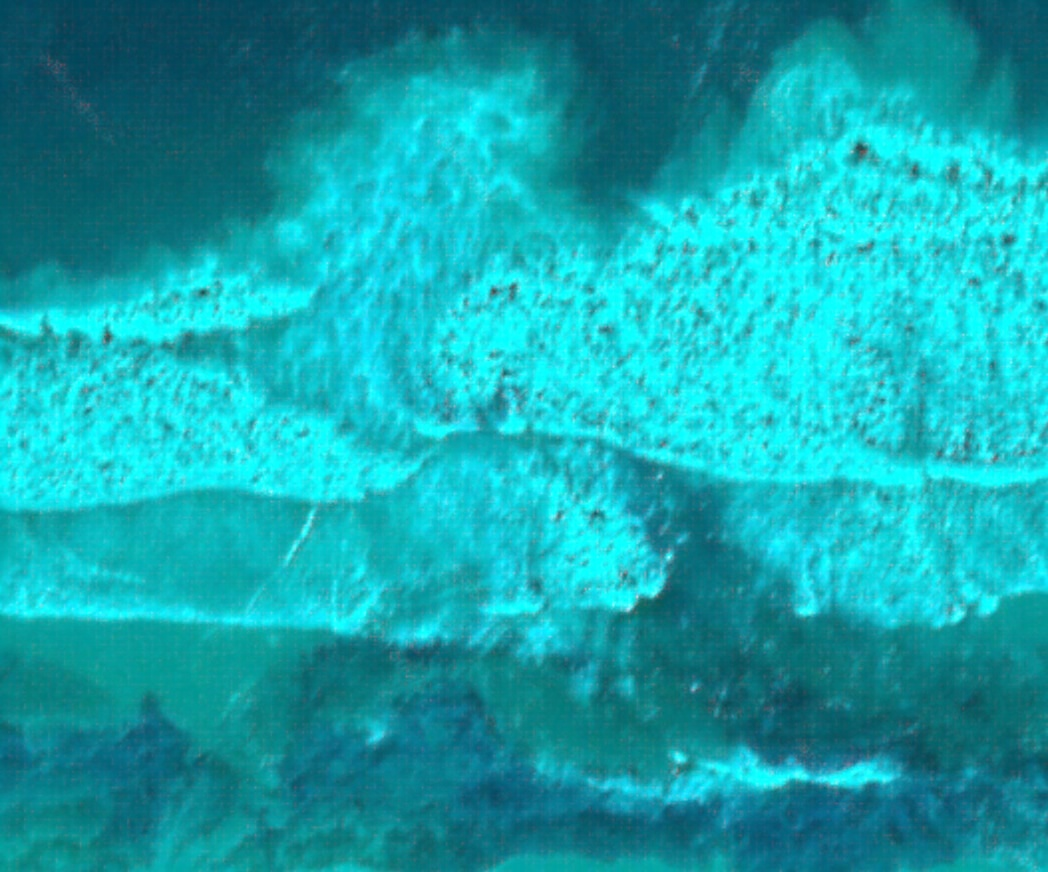rip_current: (215, 64, 615, 607)
